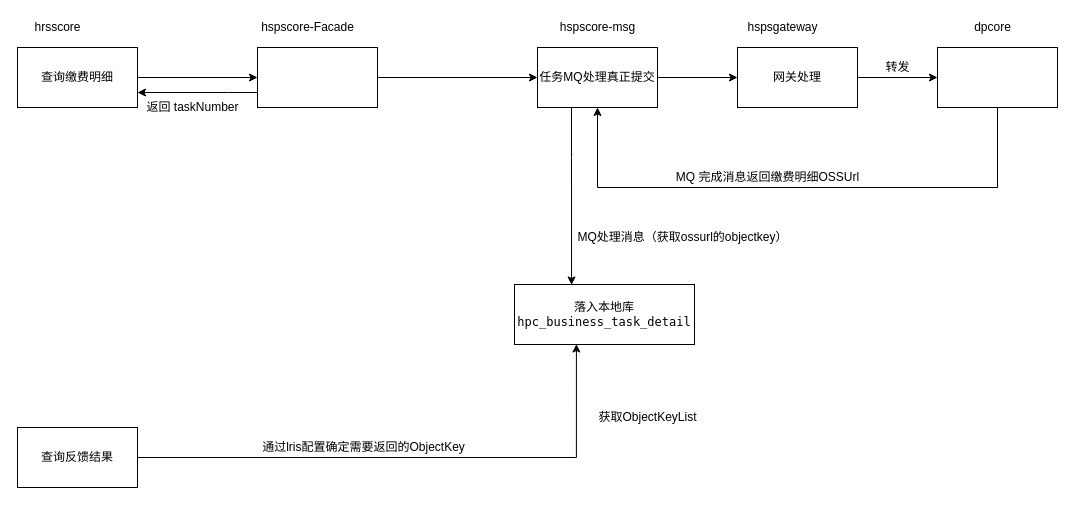
The diagram is 1075 pixels wide and 505 high, and some of its shapes have lost their labels. Here are the shapes that lost their labels. From the top down, the centre of each, then its label:
(x=317, y=77): 发起提交任务
(x=997, y=77): 客户端
